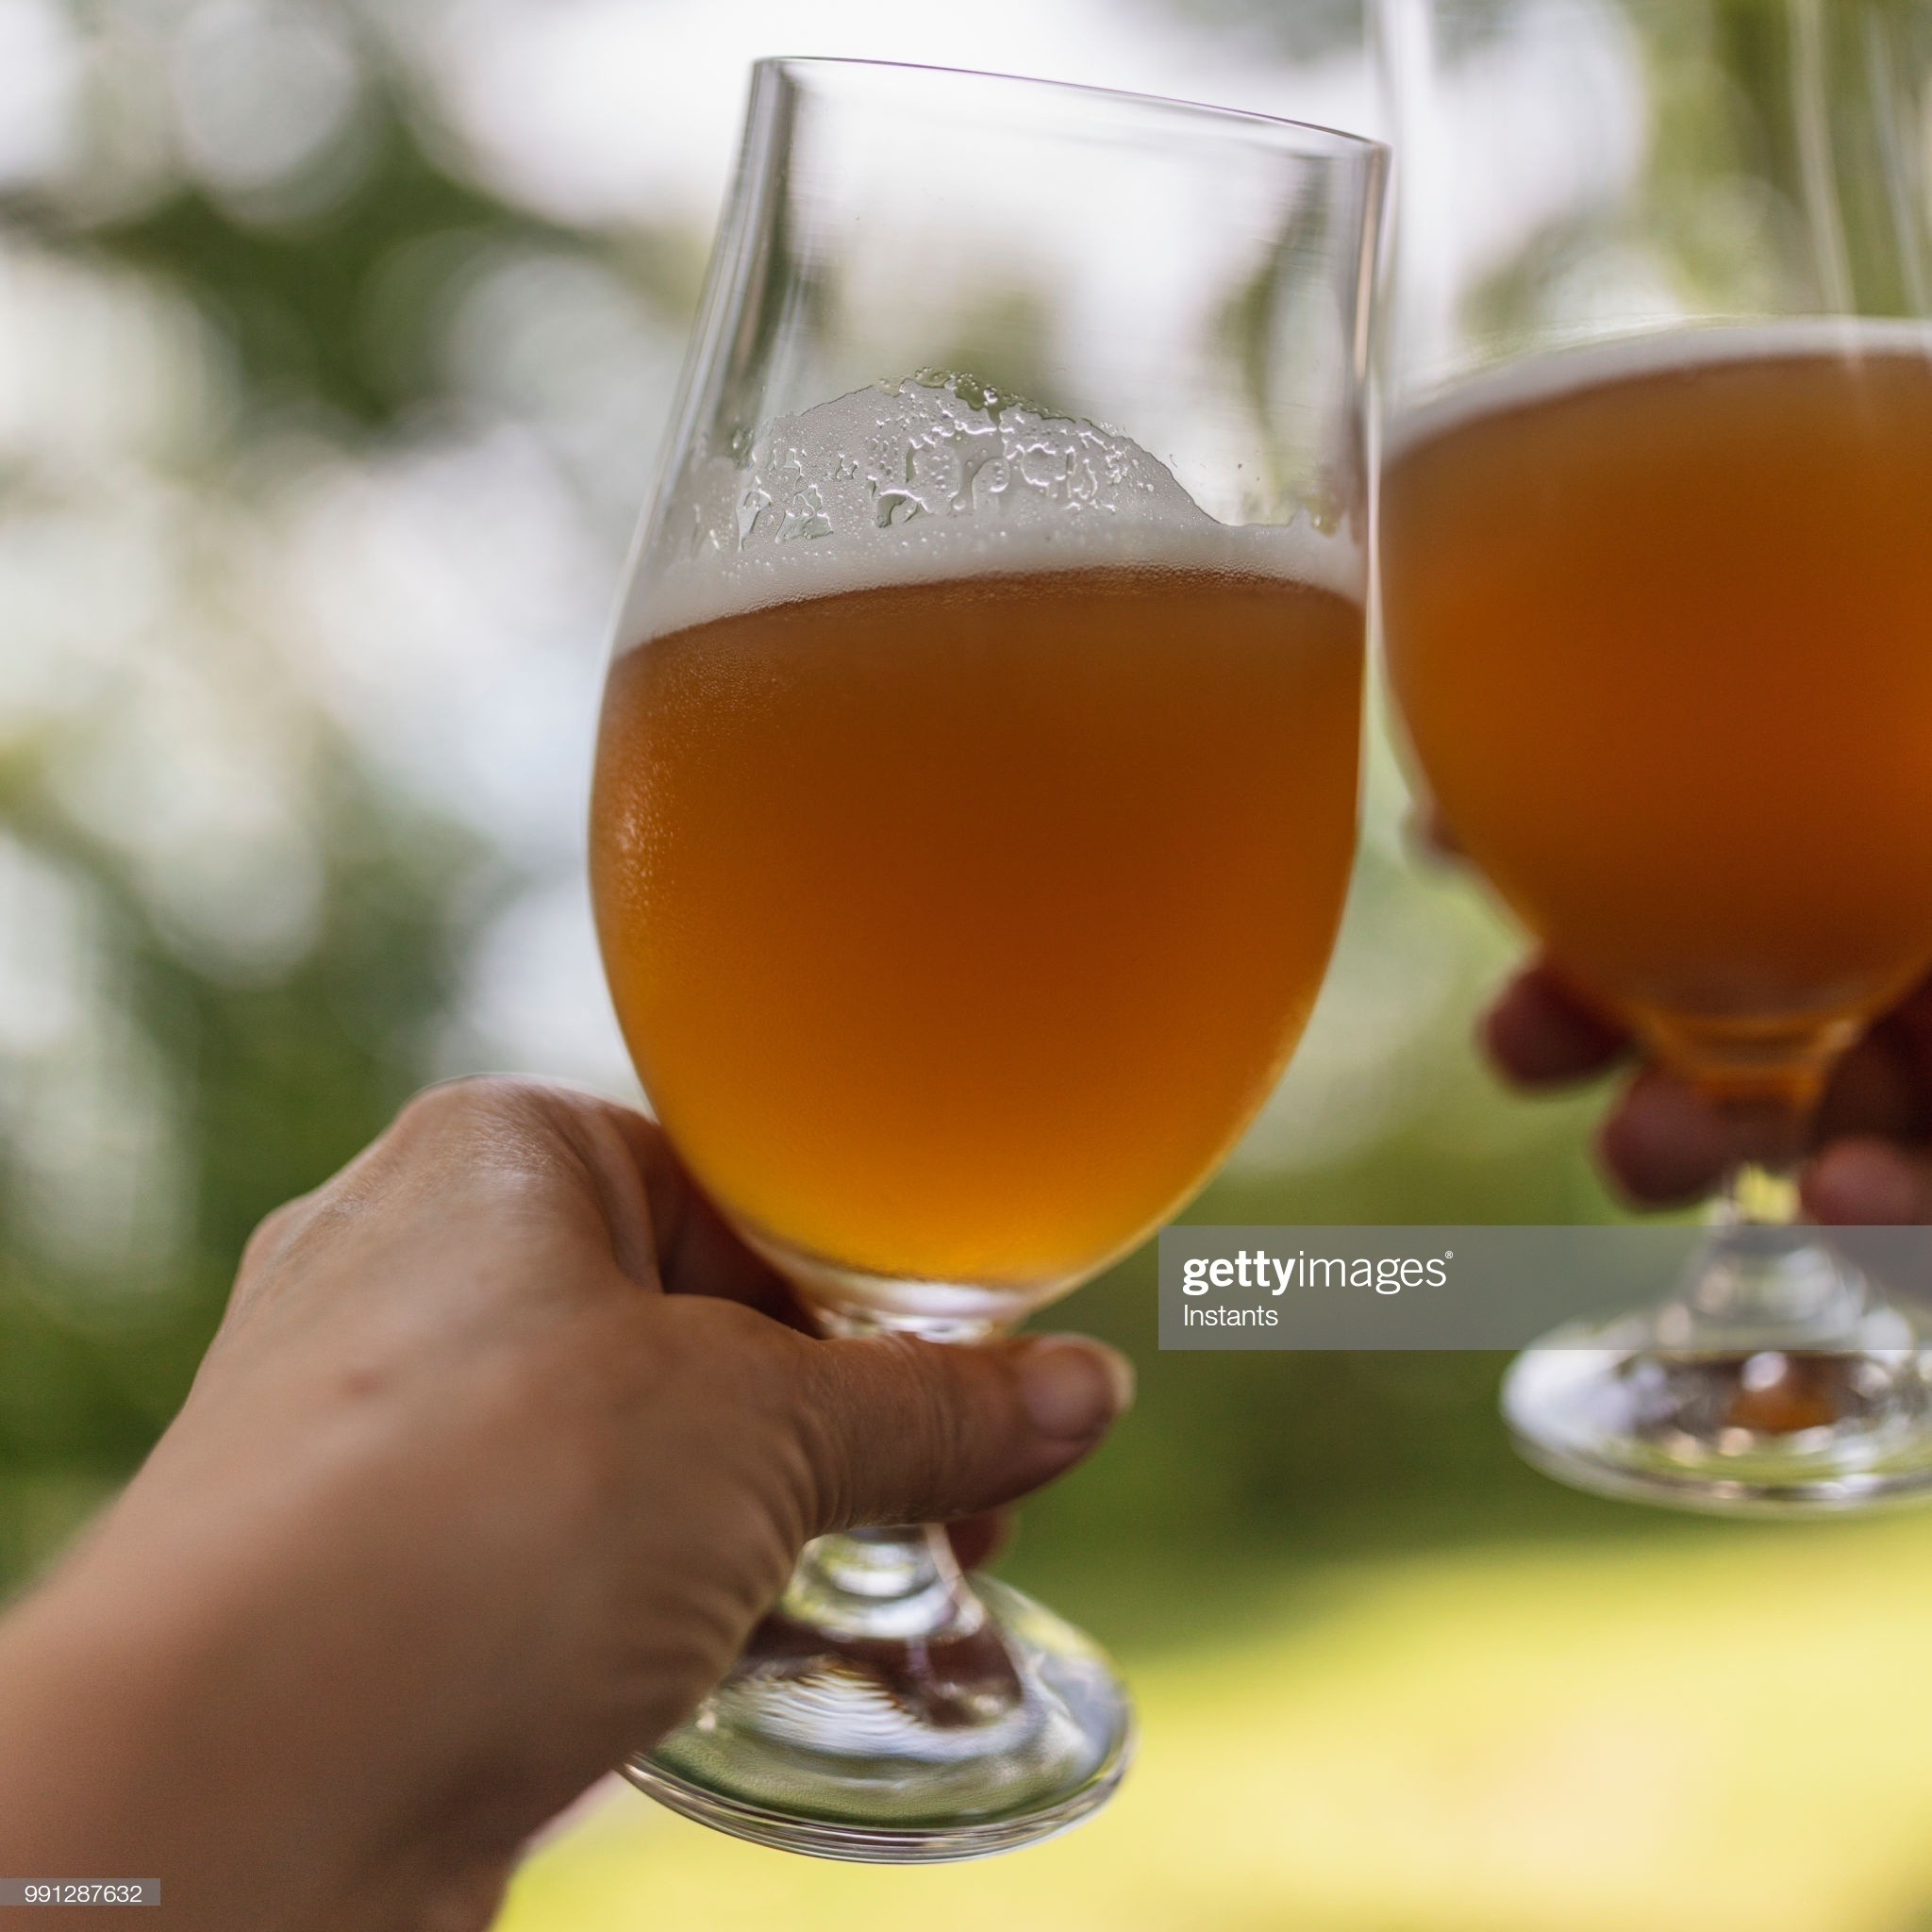whiskey: (605, 55, 1353, 1794)
